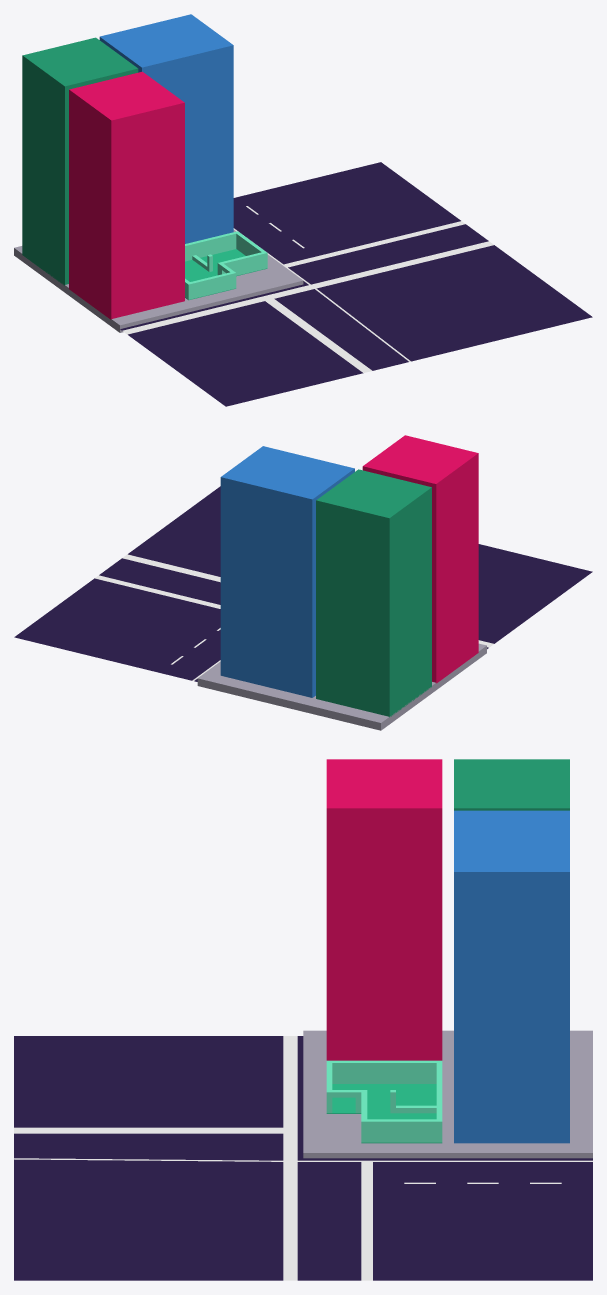
The model's file is Map.fbx.
The picture shows the model from 3 angles, top to bottom: view 1: azimuth 30°, elevation 25°; view 2: azimuth 150°, elevation 25°; view 3: azimuth 270°, elevation 25°; orthographic projection. The views are drawn at different scales.
Visible parts, largest first — view 1: Road, Skyscrapper1, Skyscrapper3, Skyscrapper2, Concrete, Resturant; view 2: Road, Skyscrapper2, Skyscrapper3, Skyscrapper1, Concrete; view 3: Road, Skyscrapper3, Skyscrapper1, Concrete, Resturant, Skyscrapper2.
Boxes of the visible parts, x1,y1,x2,y2 form: Road: [120, 162, 592, 406]; Skyscrapper1: [69, 71, 184, 319]; Skyscrapper3: [99, 14, 233, 243]; Skyscrapper2: [22, 37, 138, 285]; Concrete: [14, 230, 303, 332]; Resturant: [185, 231, 267, 300]; Road: [14, 486, 592, 681]; Skyscrapper2: [316, 469, 431, 717]; Skyscrapper3: [220, 446, 354, 697]; Skyscrapper1: [362, 435, 478, 683]; Concrete: [197, 643, 486, 730]; Road: [14, 1036, 592, 1280]; Skyscrapper3: [454, 810, 569, 1143]; Skyscrapper1: [326, 759, 442, 1060]; Concrete: [303, 1030, 592, 1158]; Resturant: [326, 1060, 442, 1143]; Skyscrapper2: [454, 759, 569, 810].
Bounding box in the file's own units: 10000 × 5370 × 10000.
